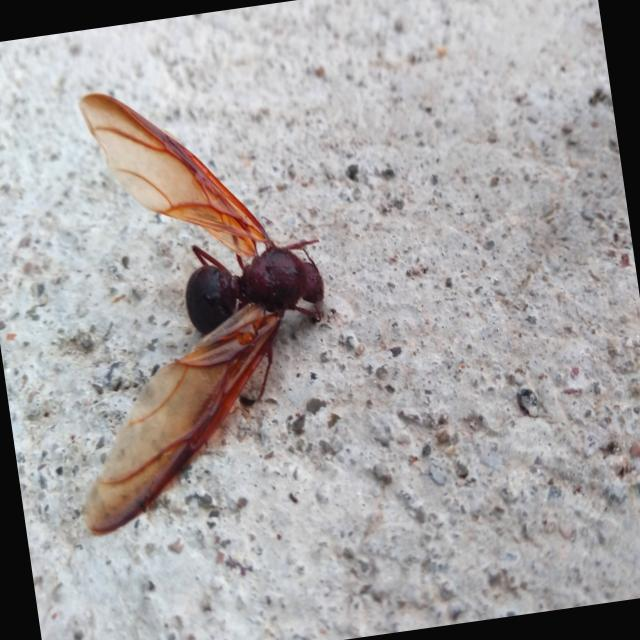Dead-Female-Alate: (26, 65, 360, 543)
